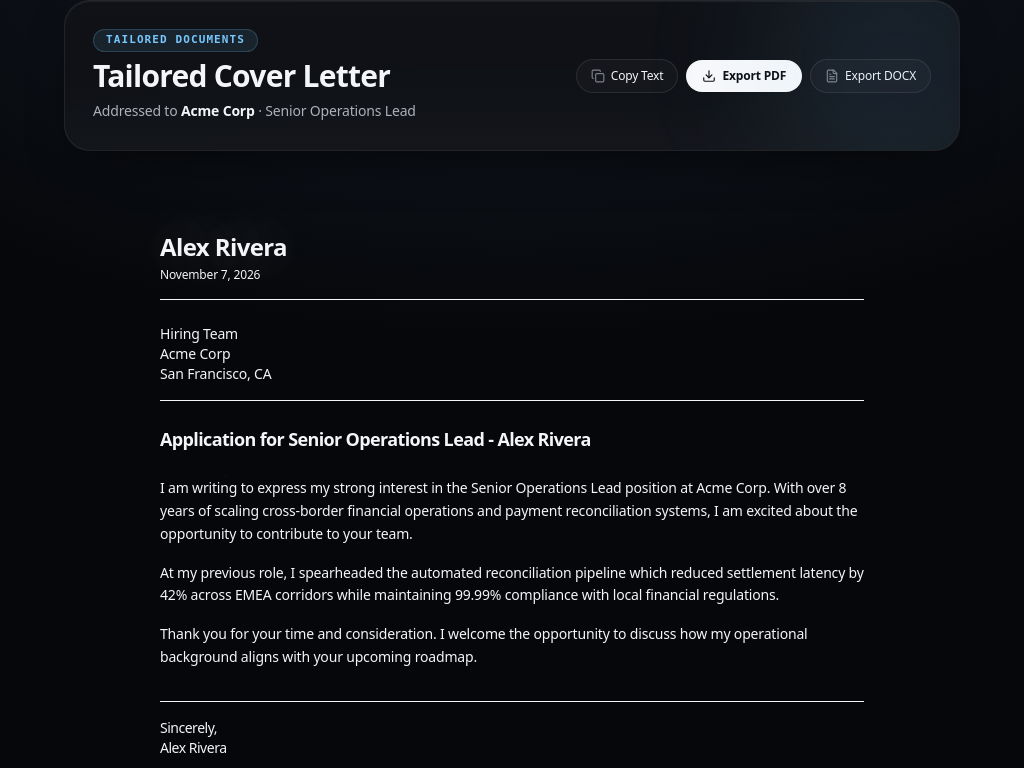
Test: Task 9: CoverLetterView PDF & DOCX Exports › triggers downloadCoverLetterAsDocx and displays success state
Click the button "Export DOCX". click: (871, 76)
box: [810, 59, 931, 93]
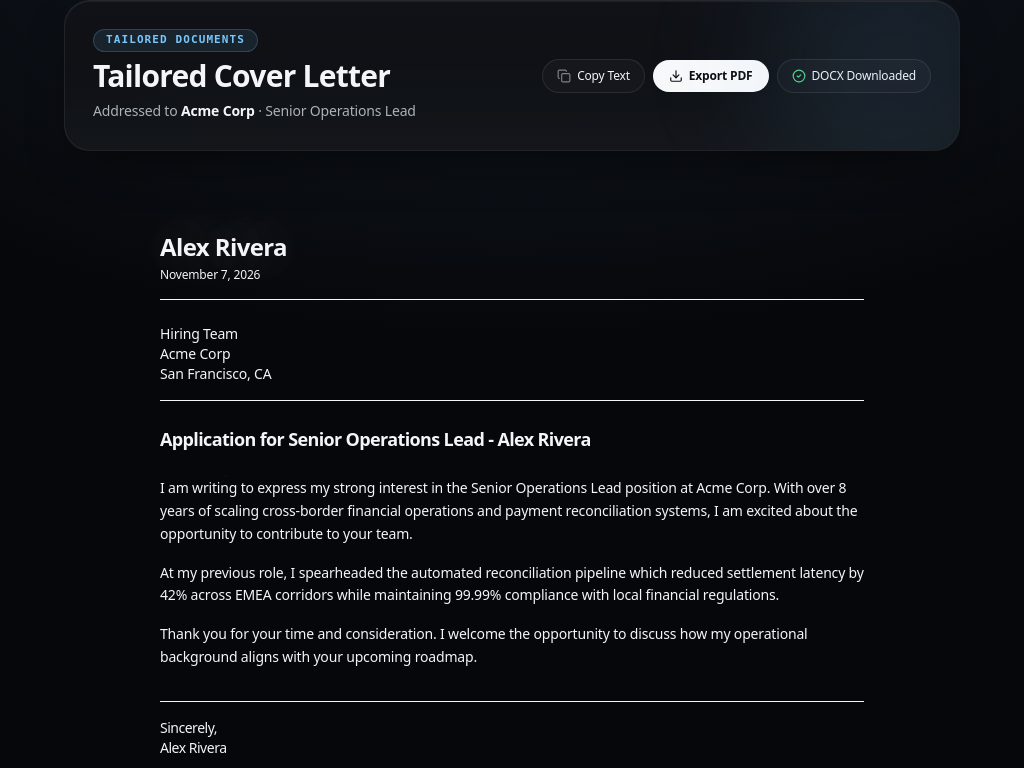
Now the text "DOCX Downloaded" is shown, box [812, 68, 916, 84]
